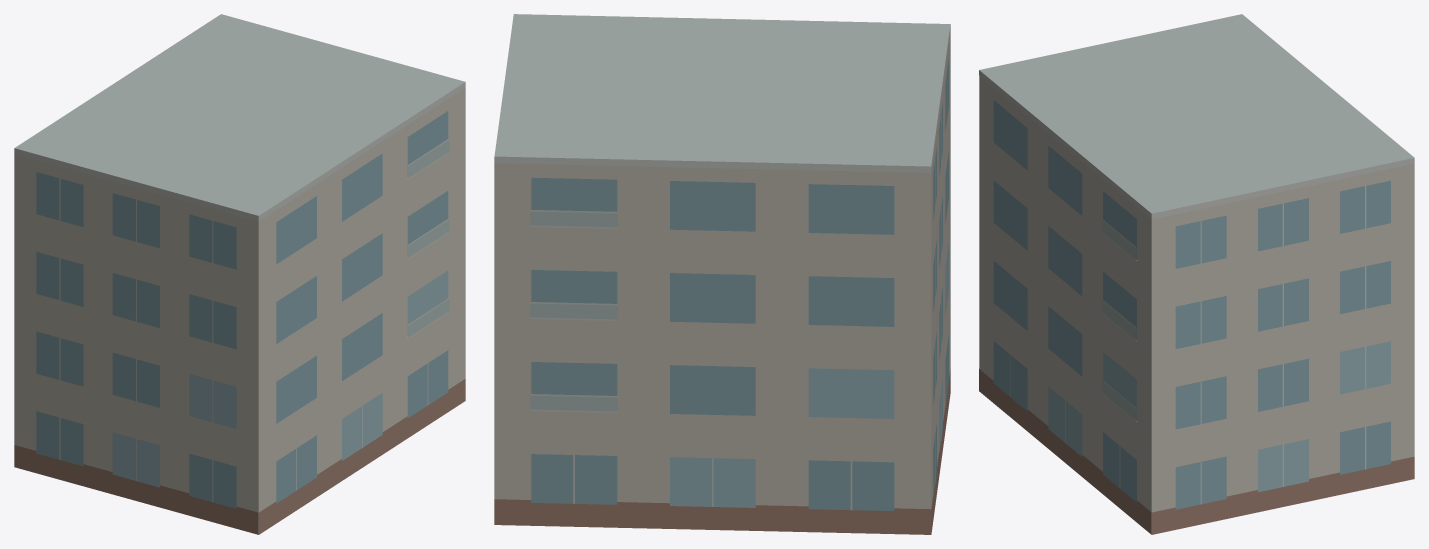
File: survey-upis-32741374.glb
3 renders of one model, left to right at view 1: azimuth 30°, elevation 25°; view 2: azimuth 150°, elevation 25°; view 3: azimuth 270°, elevation 25°, orthographic. The views are drawn at different scales.
Visible parts, largest first — view 1: survey-upis-32741374.tmp; view 2: survey-upis-32741374.tmp; view 3: survey-upis-32741374.tmp.
Boxes of the visible parts, left/top/right/bottom form: survey-upis-32741374.tmp: left=14, top=14, right=465, bottom=534; survey-upis-32741374.tmp: left=494, top=14, right=950, bottom=534; survey-upis-32741374.tmp: left=979, top=14, right=1414, bottom=534.
Bounding box in the file's own units: 18.14 × 13.6 × 16.72.
